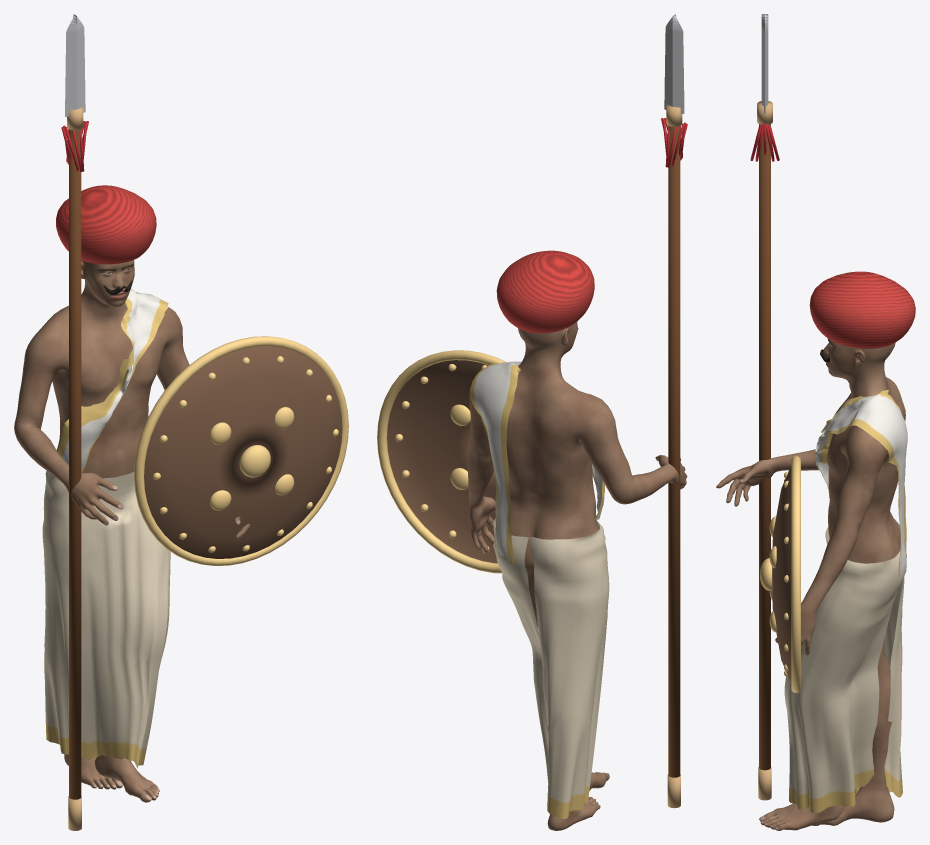
File: ind_spear_red.glb
3 renders of one model, left to right at view 1: azimuth 30°, elevation 25°; view 2: azimuth 150°, elevation 25°; view 3: azimuth 270°, elevation 25°, orthographic. The views are drawn at different scales.
Visible parts, largest first — view 1: A_ind_spear_red; view 2: A_ind_spear_red; view 3: A_ind_spear_red.
Part boxes in pixels (<box>): A_ind_spear_red: <box>14,14,348,830</box>; A_ind_spear_red: <box>377,14,687,830</box>; A_ind_spear_red: <box>716,14,915,830</box>.
Bounding box in the file's own units: 1.02 × 2.62 × 0.6052.
Materials: 18 (9 with a texture image).
